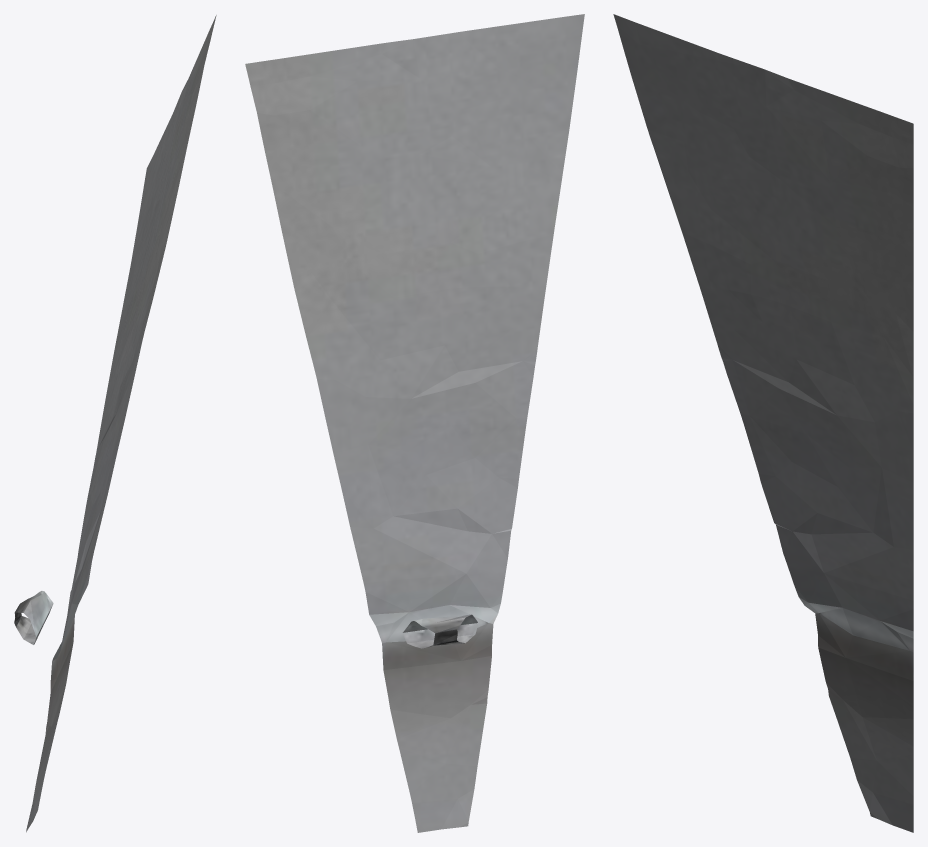
3 renders of one model, left to right at view 1: azimuth 30°, elevation 25°; view 2: azimuth 150°, elevation 25°; view 3: azimuth 270°, elevation 25°, orthographic. The views are drawn at different scales.
Bounding box in the file's own units: 0.4911 × 1.67 × 0.5681.
1 material, 1 textured.
